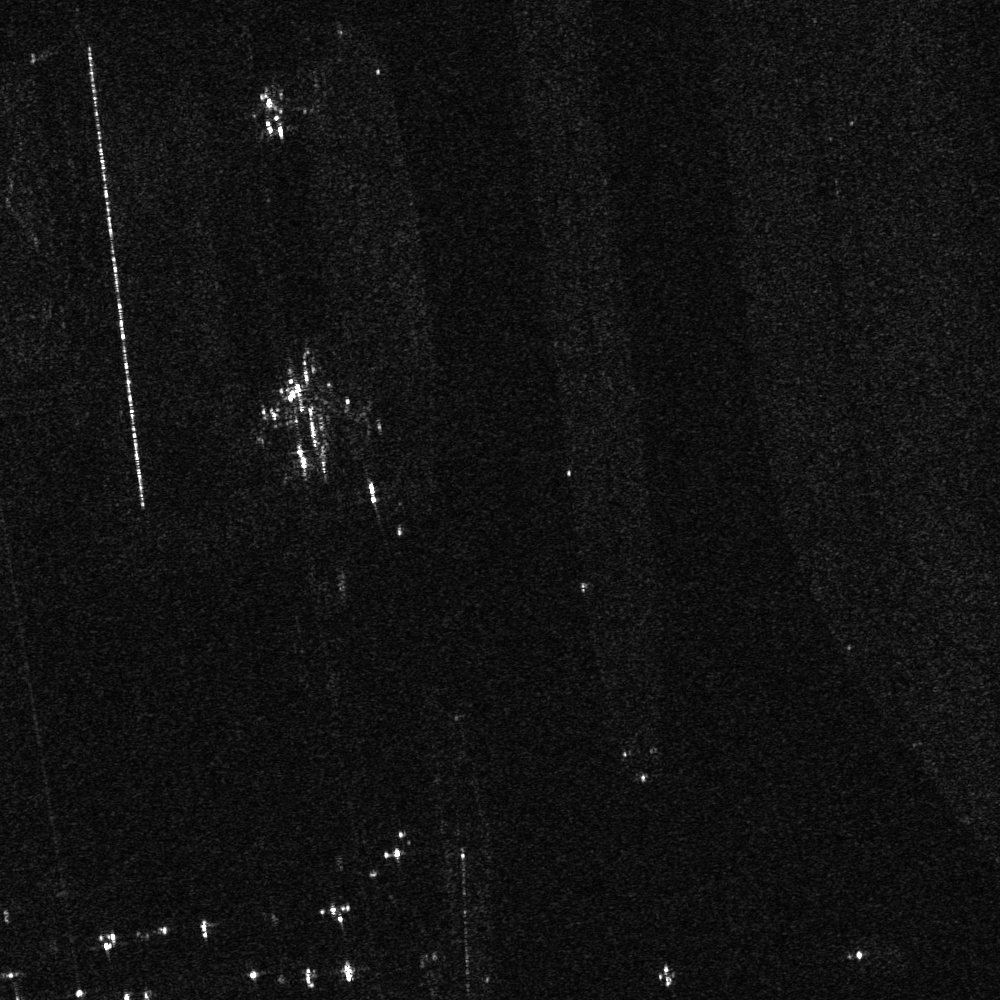A220: (235, 75, 311, 144)
other: (254, 350, 382, 482)
